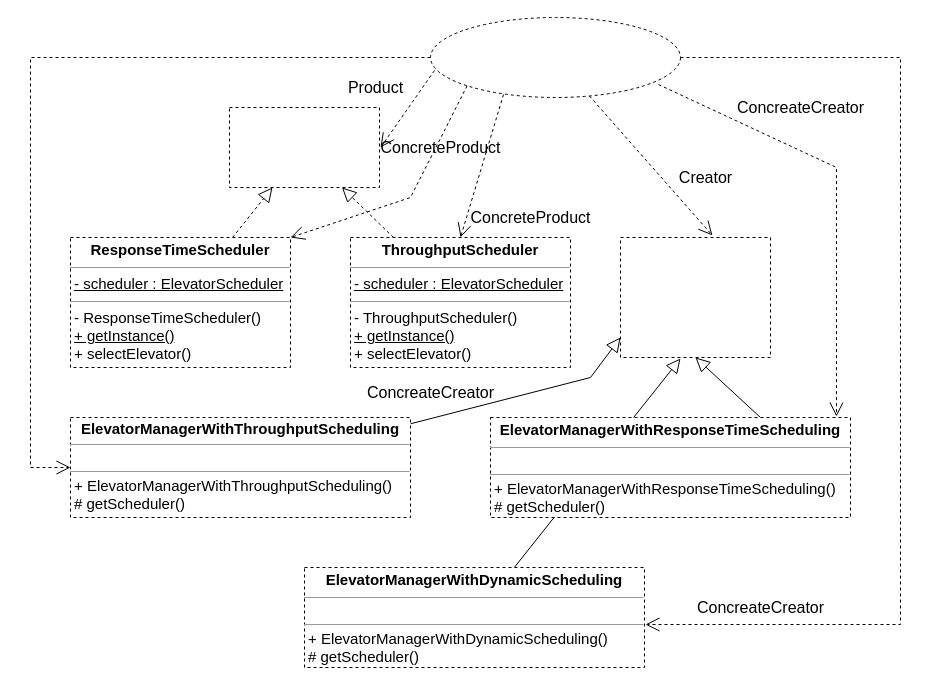
This 932x685 diagram has some shape labels left out. Here are the shapes that lost their labels. From the top down, the centre of each, then its label:
At (x=555, y=57): "Factory Method Pattern".
At (x=304, y=147): "<< Interface >> ElevatorScheduler + selectElevator()".
At (x=695, y=297): "ElevatorManager + ElevatorManager() + requestElevator() # getScheduler ()".
